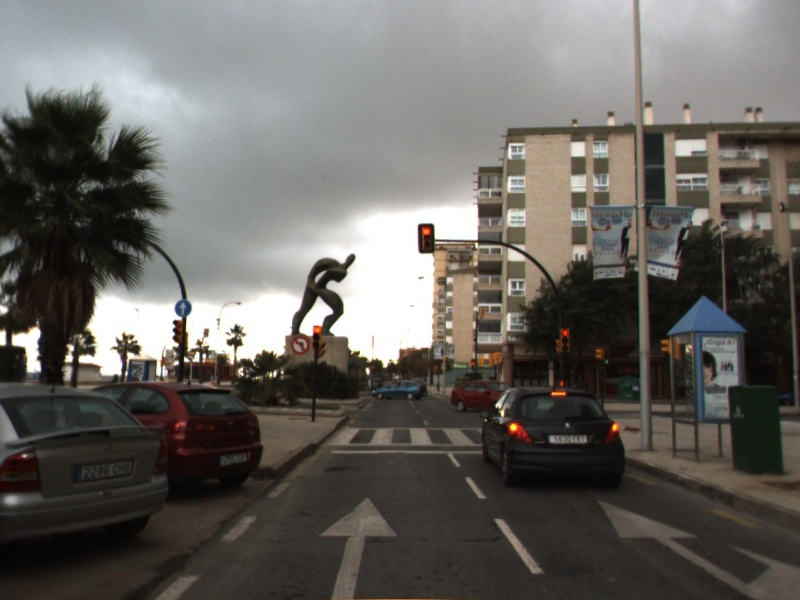STRAIGHT: (317, 495, 399, 600)
STRAIGHT_RIGHT: (595, 497, 800, 600)
